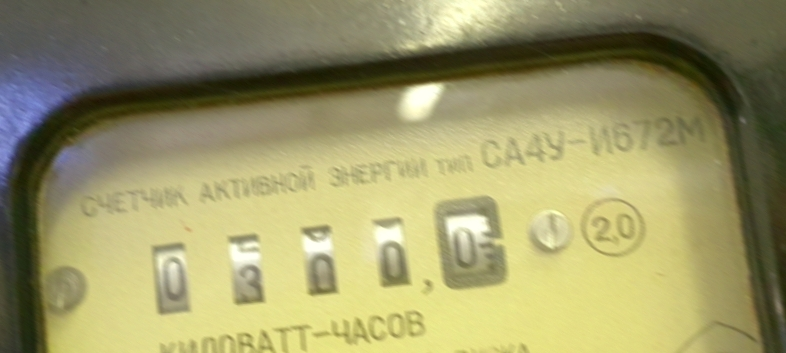0: (157, 251, 189, 305), (304, 248, 337, 299), (447, 223, 480, 274), (374, 238, 408, 287)
3: (232, 260, 265, 306)
screen: (127, 187, 517, 337)
